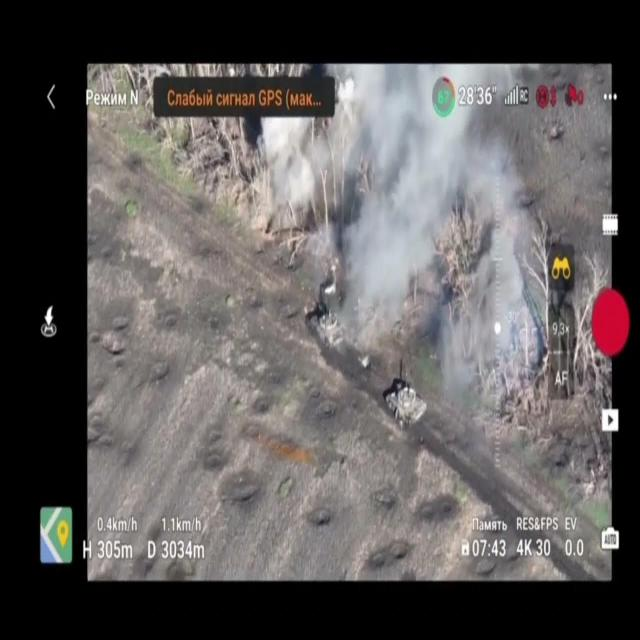tank: (386, 388, 426, 430), (310, 312, 347, 353)
